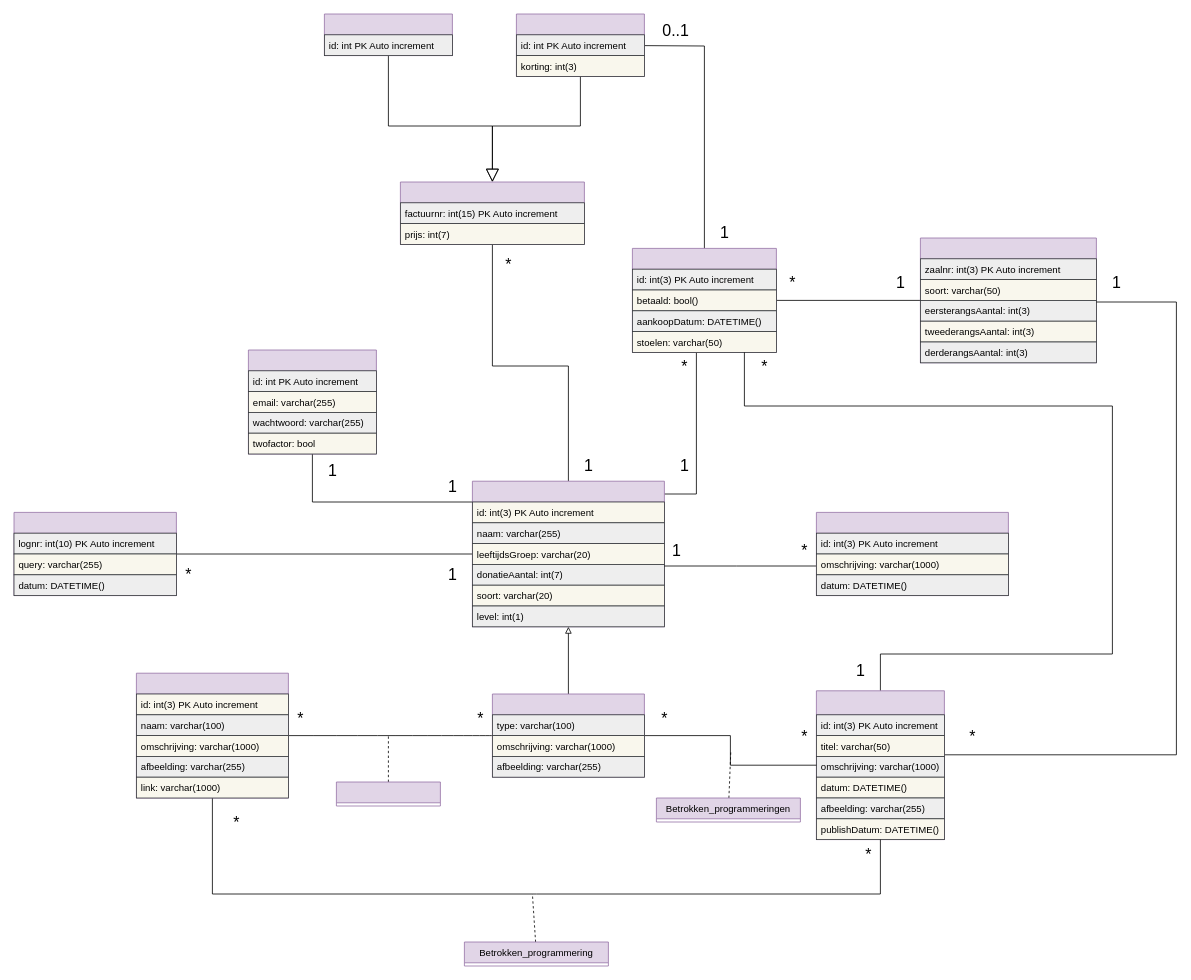
The diagram is 1191 pixels wide and 980 high, and some of its shapes have lost their labels. The box of each missing label's shape, as (x1, y1, x2, y2) in pixels:
Bestellingen: (516, 13, 644, 76)
Betalingen: (400, 181, 584, 244)
Betrokken: (492, 693, 644, 777)
Betrokken_groep: (336, 781, 440, 806)
Donaties: (324, 13, 452, 56)
Gebruiker: (472, 480, 664, 627)
Groep: (136, 672, 288, 798)
Interesse: (816, 512, 1008, 596)
LoginGegevens: (248, 349, 376, 454)
Logs: (13, 512, 176, 596)
programmeringen: (816, 690, 944, 840)
Reserveringen: (632, 248, 776, 352)
Zalen: (920, 237, 1096, 363)
